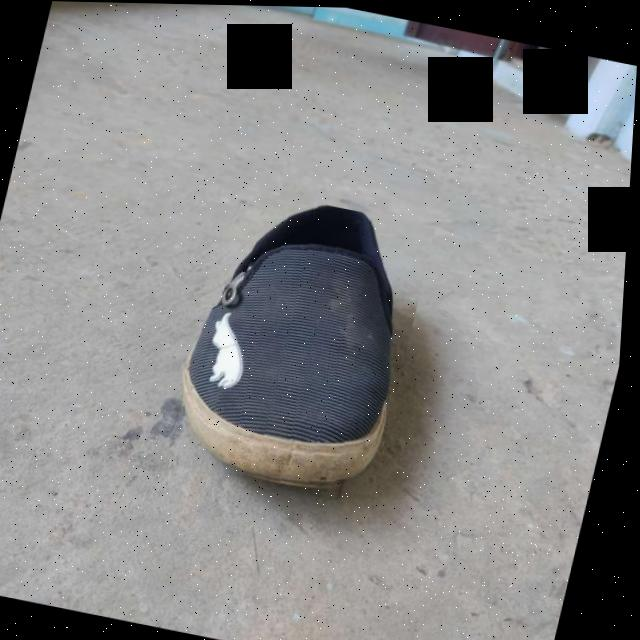shoe: (164, 183, 440, 502)
